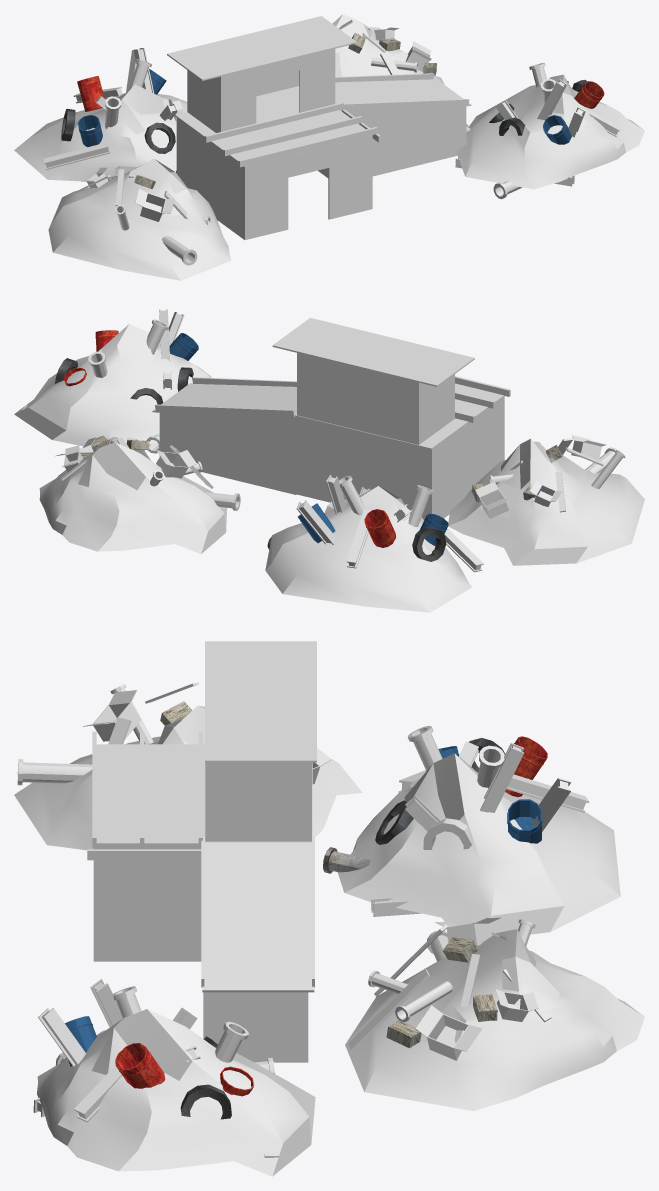
The model's file is CasaAbandonada3.fbx.
3 views of the same model, one above another, from view 1: azimuth 30°, elevation 25°; view 2: azimuth 150°, elevation 25°; view 3: azimuth 270°, elevation 25° (orthographic). The views are drawn at different scales.
Parts seen in each view (by area): view 1: Cube.074, Cube.093, Cube.184, Cube.116, Cube.115, Cube.133, Cube.001, Cube.045, Cube.117, Cube.183, Cube.004, Cube.041 (+14 smaller); view 2: Cube.074, Cube.183, Cube.116, Cube.093, Cube.184, Cube.115, Cube.001, Cube.133, Cube.117, Cube.045, Cube.002, Cube.155 (+15 smaller); view 3: Cube.116, Cube.184, Cube.183, Cube.117, Cube.133, Cube.093, Cube.045, Cube.115, Cube.074, Cube.001, Cube.138, Cube.172 (+22 smaller).
Boxes of the visible parts, left/top/right/bottom form: Cube.074: left=48, top=158, right=231, bottom=280; Cube.093: left=176, top=118, right=372, bottom=239; Cube.184: left=456, top=74, right=644, bottom=189; Cube.116: left=14, top=84, right=187, bottom=181; Cube.115: left=187, top=49, right=335, bottom=132; Cube.133: left=167, top=16, right=356, bottom=80; Cube.001: left=341, top=106, right=466, bottom=176; Cube.045: left=175, top=86, right=372, bottom=166; Cube.117: left=335, top=78, right=471, bottom=107; Cube.183: left=332, top=14, right=444, bottom=84; Cube.004: left=238, top=127, right=377, bottom=167; Cube.041: left=223, top=116, right=362, bottom=156; Cube.074: left=448, top=438, right=644, bottom=565; Cube.183: left=39, top=442, right=227, bottom=553; Cube.116: left=265, top=486, right=471, bottom=612; Cube.093: left=296, top=397, right=504, bottom=519; Cube.184: left=14, top=324, right=211, bottom=446; Cube.115: left=297, top=353, right=454, bottom=444; Cube.001: left=159, top=412, right=296, bottom=494; Cube.133: left=272, top=318, right=474, bottom=386; Cube.117: left=152, top=383, right=296, bottom=414; Cube.045: left=295, top=383, right=504, bottom=449; Cube.002: left=155, top=404, right=294, bottom=417; Cube.155: left=364, top=509, right=395, bottom=547; Cube.116: left=337, top=753, right=620, bottom=936; Cube.184: left=37, top=1009, right=315, bottom=1176; Cube.183: left=345, top=929, right=644, bottom=1111; Cube.117: left=202, top=843, right=314, bottom=992; Cube.133: left=205, top=641, right=316, bottom=762; Cube.093: left=93, top=845, right=201, bottom=961; Cube.045: left=96, top=744, right=312, bottom=845; Cube.115: left=205, top=762, right=311, bottom=841; Cube.074: left=14, top=705, right=362, bottom=850; Cube.001: left=203, top=992, right=308, bottom=1062; Cube.138: left=415, top=1005, right=482, bottom=1060; Cube.172: left=115, top=1043, right=165, bottom=1088.
Size of the model in its own units: 6890 by 1746 by 4223.
